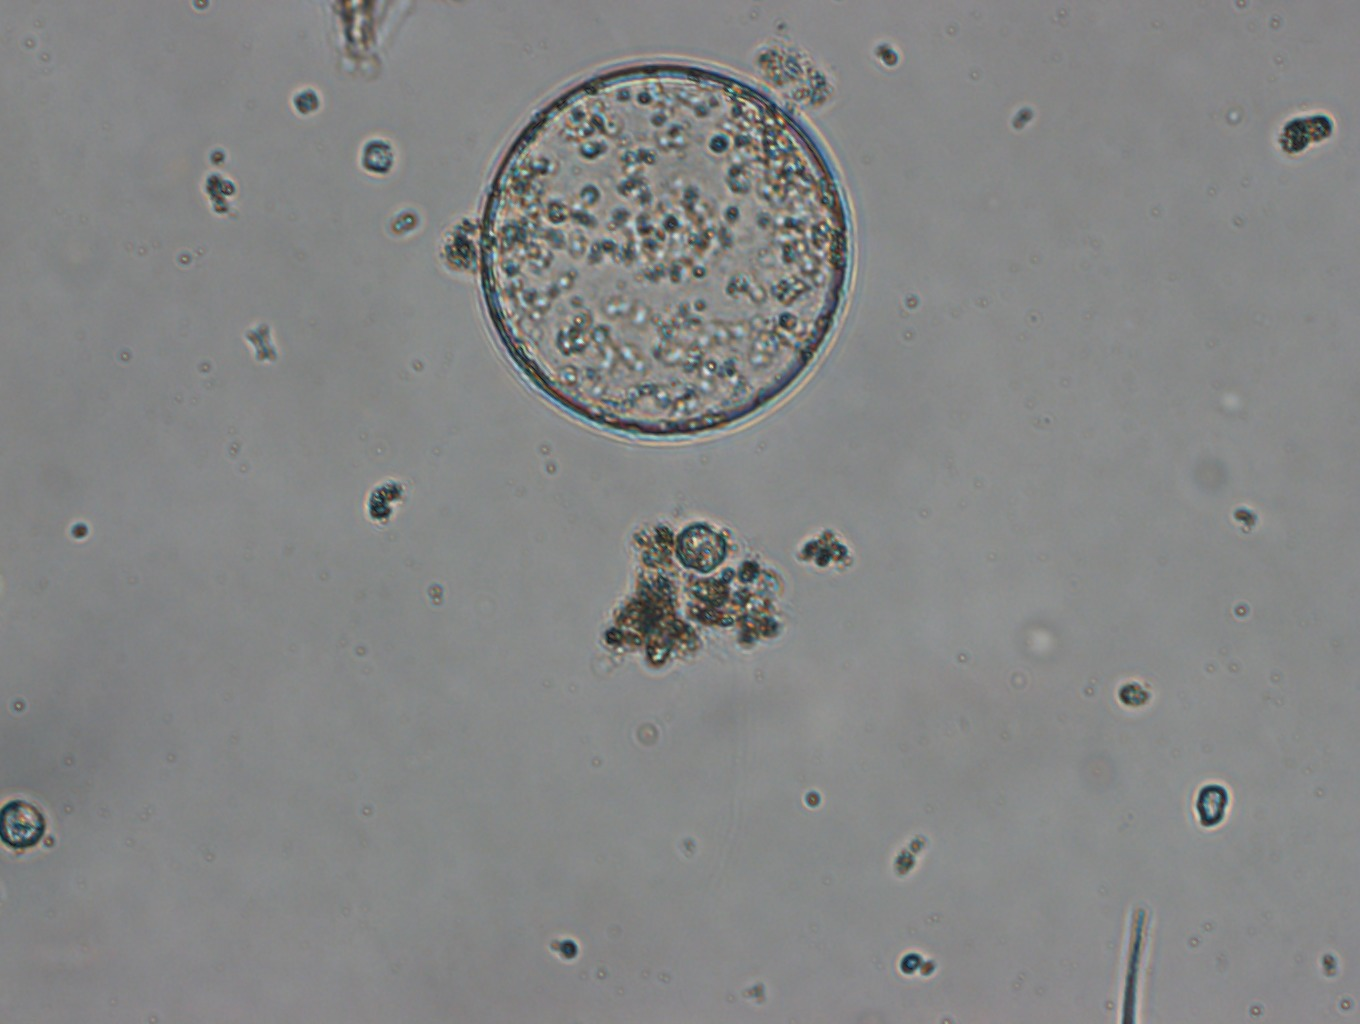coscinodiscus: (476, 51, 860, 449)
